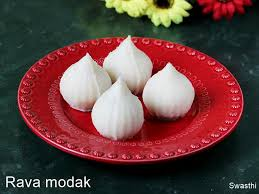modak: (139, 59, 204, 121), (64, 51, 116, 117), (93, 82, 152, 138), (104, 35, 158, 90)
